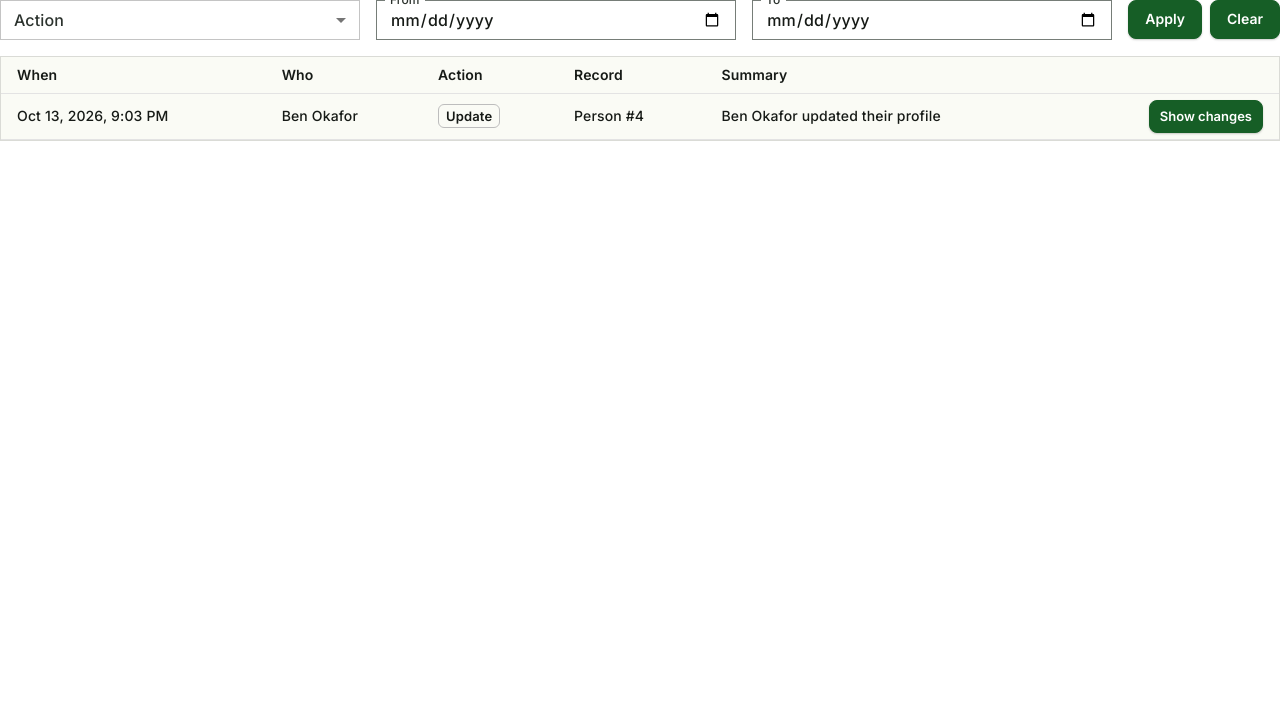
Test: HistoryPanel › shows the changed fields when the server sends the state (admins)
Click the button "Show changes".
click(1206, 116)  # box 1149,100 -> 1263,133
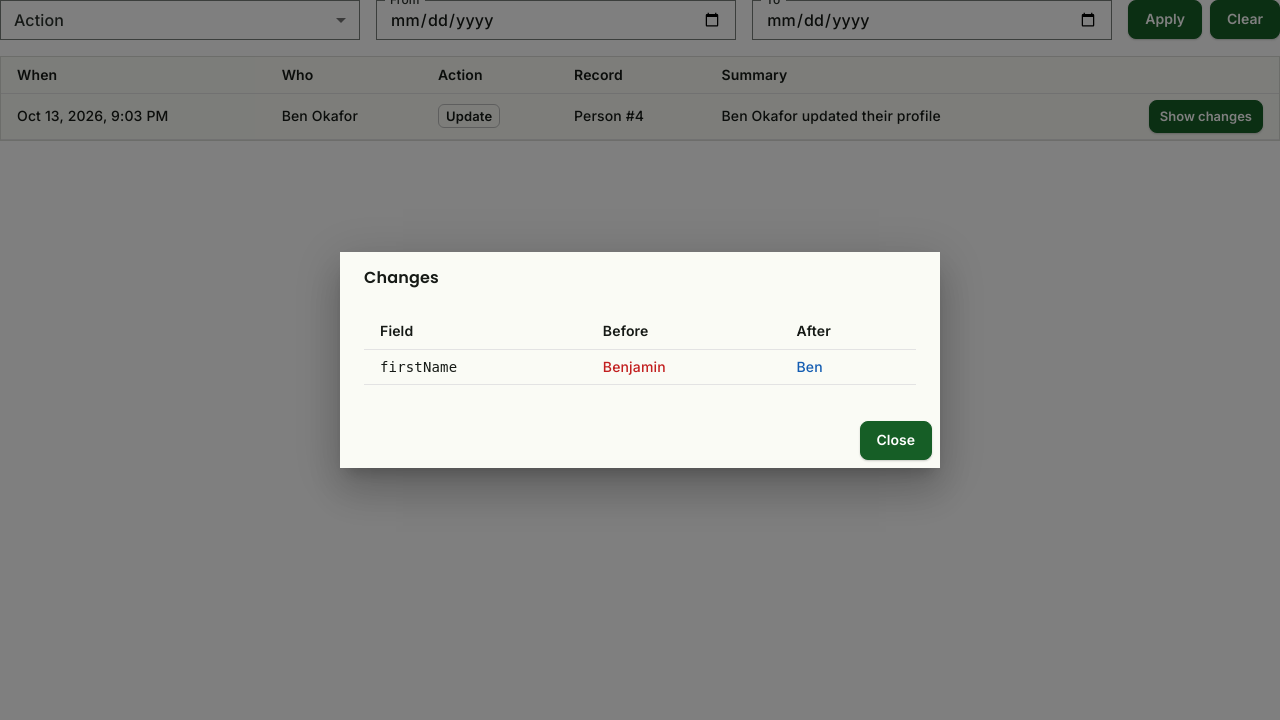
Expected: the text "firstName" is shown, 364,350 -> 587,385
Expected: the text "Benjamin" is shown, 587,350 -> 780,385
